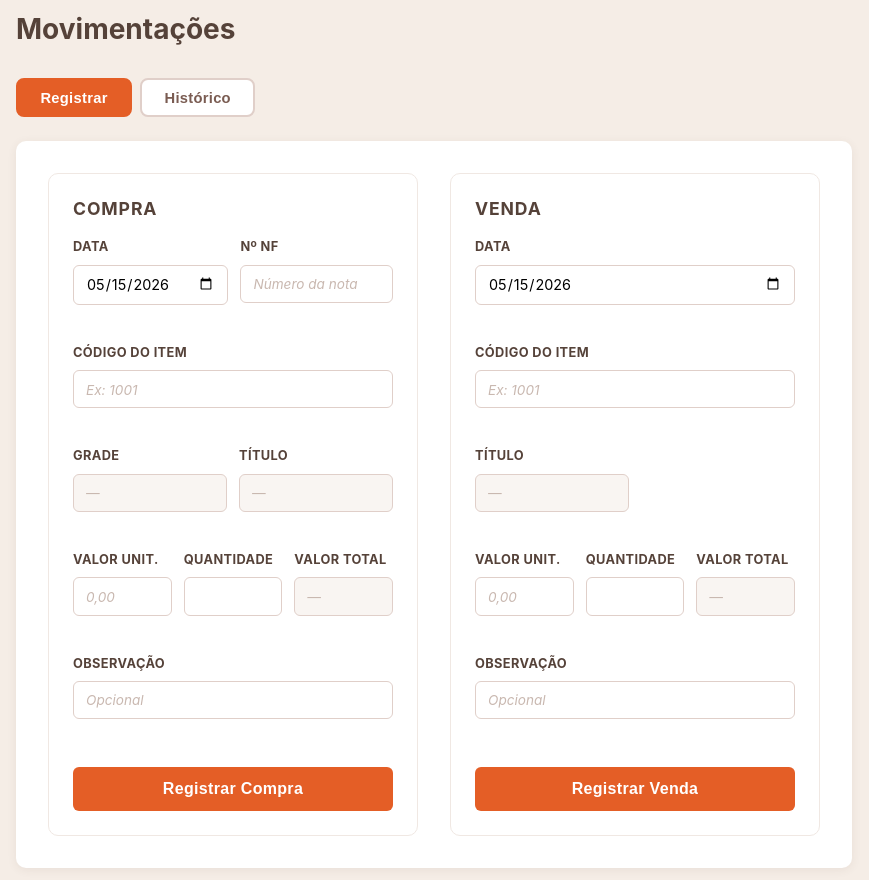
Scenario: Movimentacoes › registra venda com sucesso após lookup
# Segundo campo "Ex: 1001" é o do form de venda
In the 2nd field with placeholder "Ex: 1001": (635, 389) [475, 370, 795, 408], type "1001"
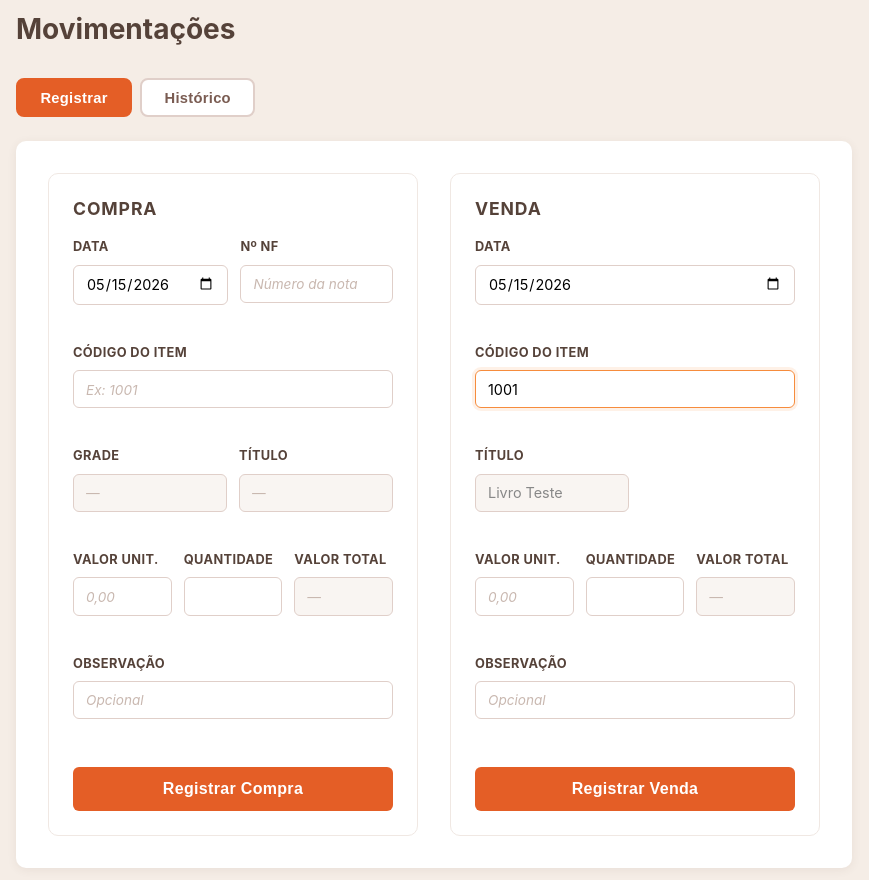
In the 2nd field with placeholder "0,00": (524, 596) [475, 577, 574, 616], type "39,90"
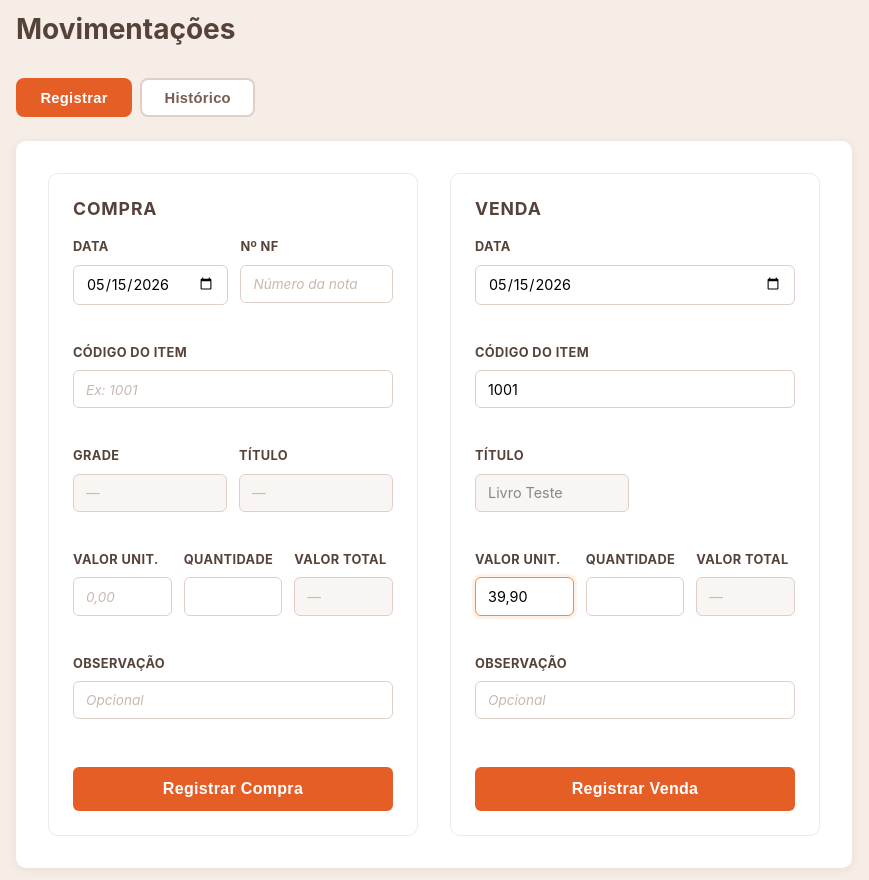
In the 2nd number field: (635, 596) [586, 577, 684, 616], type "5"
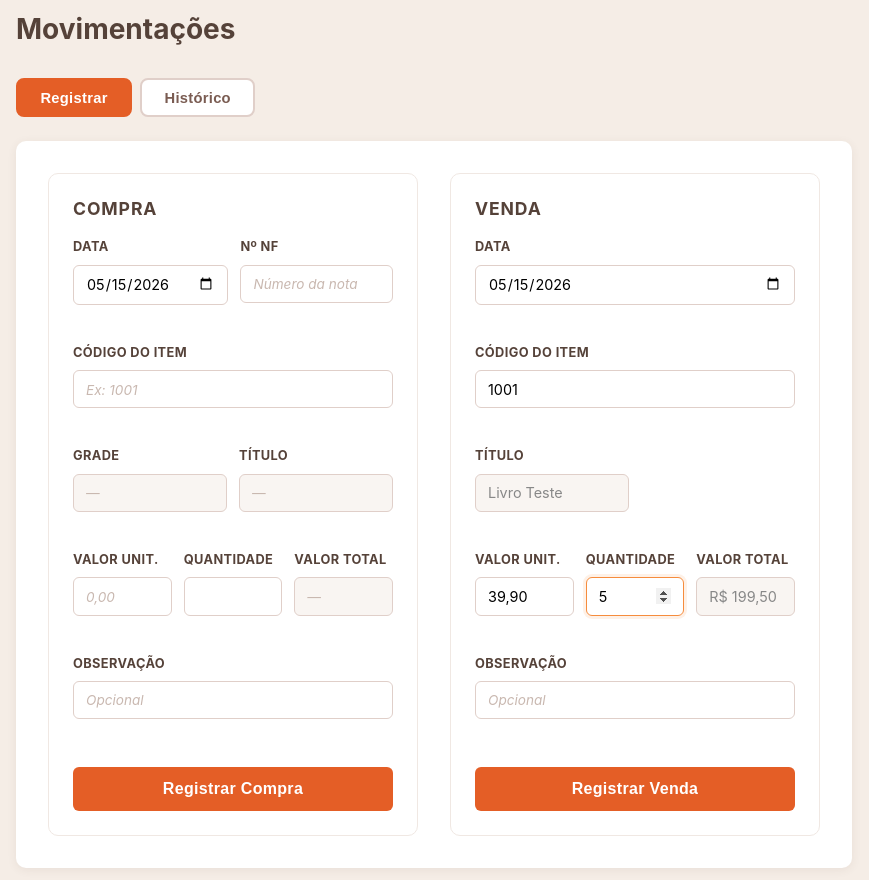
Click the button "Registrar Venda": (635, 789) [475, 767, 795, 811]
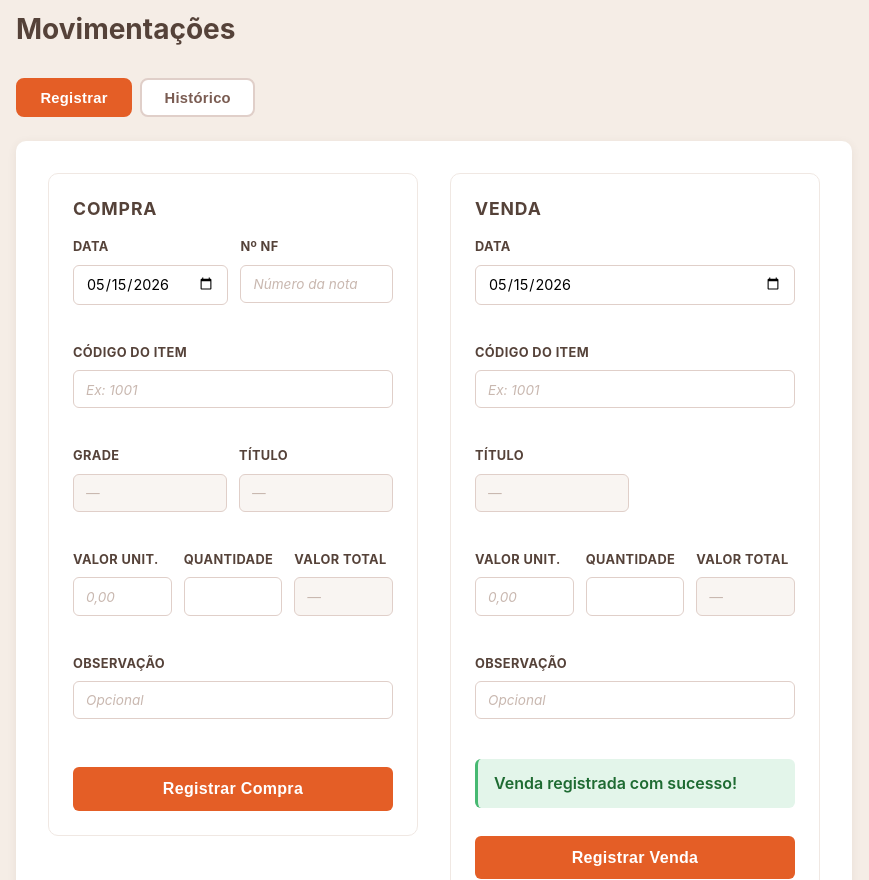
Expected: the text "Venda registrada com sucesso!" is shown, [475, 759, 795, 808]
